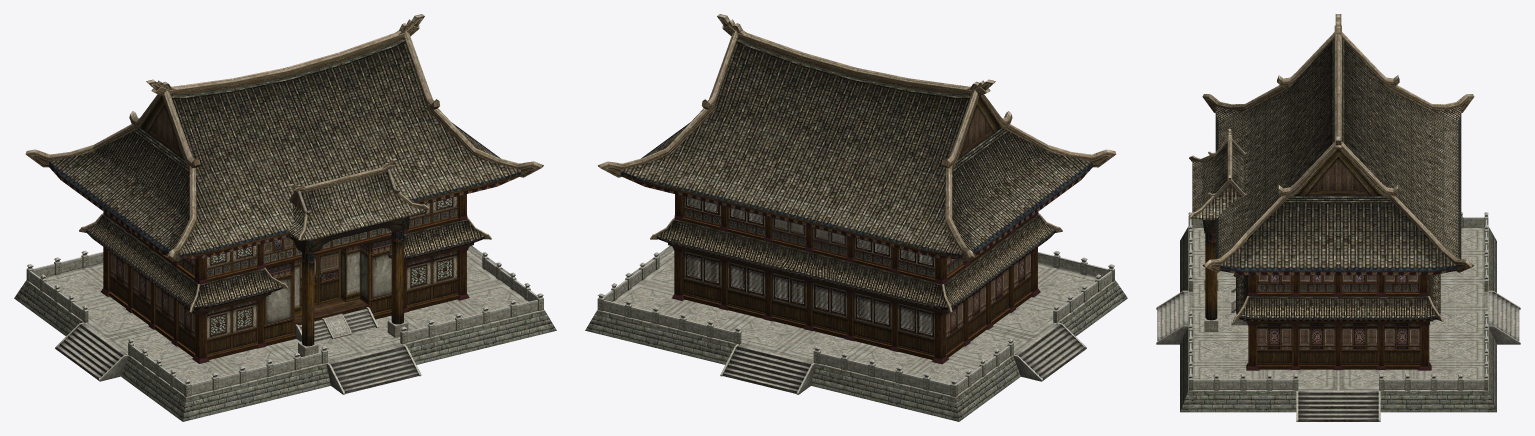
Rendered from building_bank.glb.
The picture shows the model from 3 angles, left to right: view 1: azimuth 30°, elevation 25°; view 2: azimuth 150°, elevation 25°; view 3: azimuth 270°, elevation 25°; orthographic projection. The views are drawn at different scales.
Parts seen in each view (by area): view 1: b1-010-bank-01, b1-010-bank-03.001, b1-010-bank-04, b1-010-bank-02; view 2: b1-010-bank-01, b1-010-bank-03.001, b1-010-bank-02, b1-010-bank-04; view 3: b1-010-bank-01, b1-010-bank-03.001, b1-010-bank-02, b1-010-bank-04.
Part boxes in pixels (<box>): b1-010-bank-01: <box>49,37,520,363</box>; b1-010-bank-03.001: <box>14,216,556,421</box>; b1-010-bank-04: <box>25,14,543,341</box>; b1-010-bank-02: <box>26,196,543,396</box>; b1-010-bank-01: <box>620,37,1092,364</box>; b1-010-bank-03.001: <box>585,215,1127,421</box>; b1-010-bank-02: <box>597,196,1114,397</box>; b1-010-bank-04: <box>598,14,1116,312</box>; b1-010-bank-01: <box>1192,38,1461,370</box>; b1-010-bank-03.001: <box>1156,226,1520,421</box>; b1-010-bank-02: <box>1188,212,1488,390</box>; b1-010-bank-04: <box>1189,14,1474,321</box>.
Size of the model in its own units: 2499 by 1527 by 2019.
Materials: 4 (4 with a texture image).
